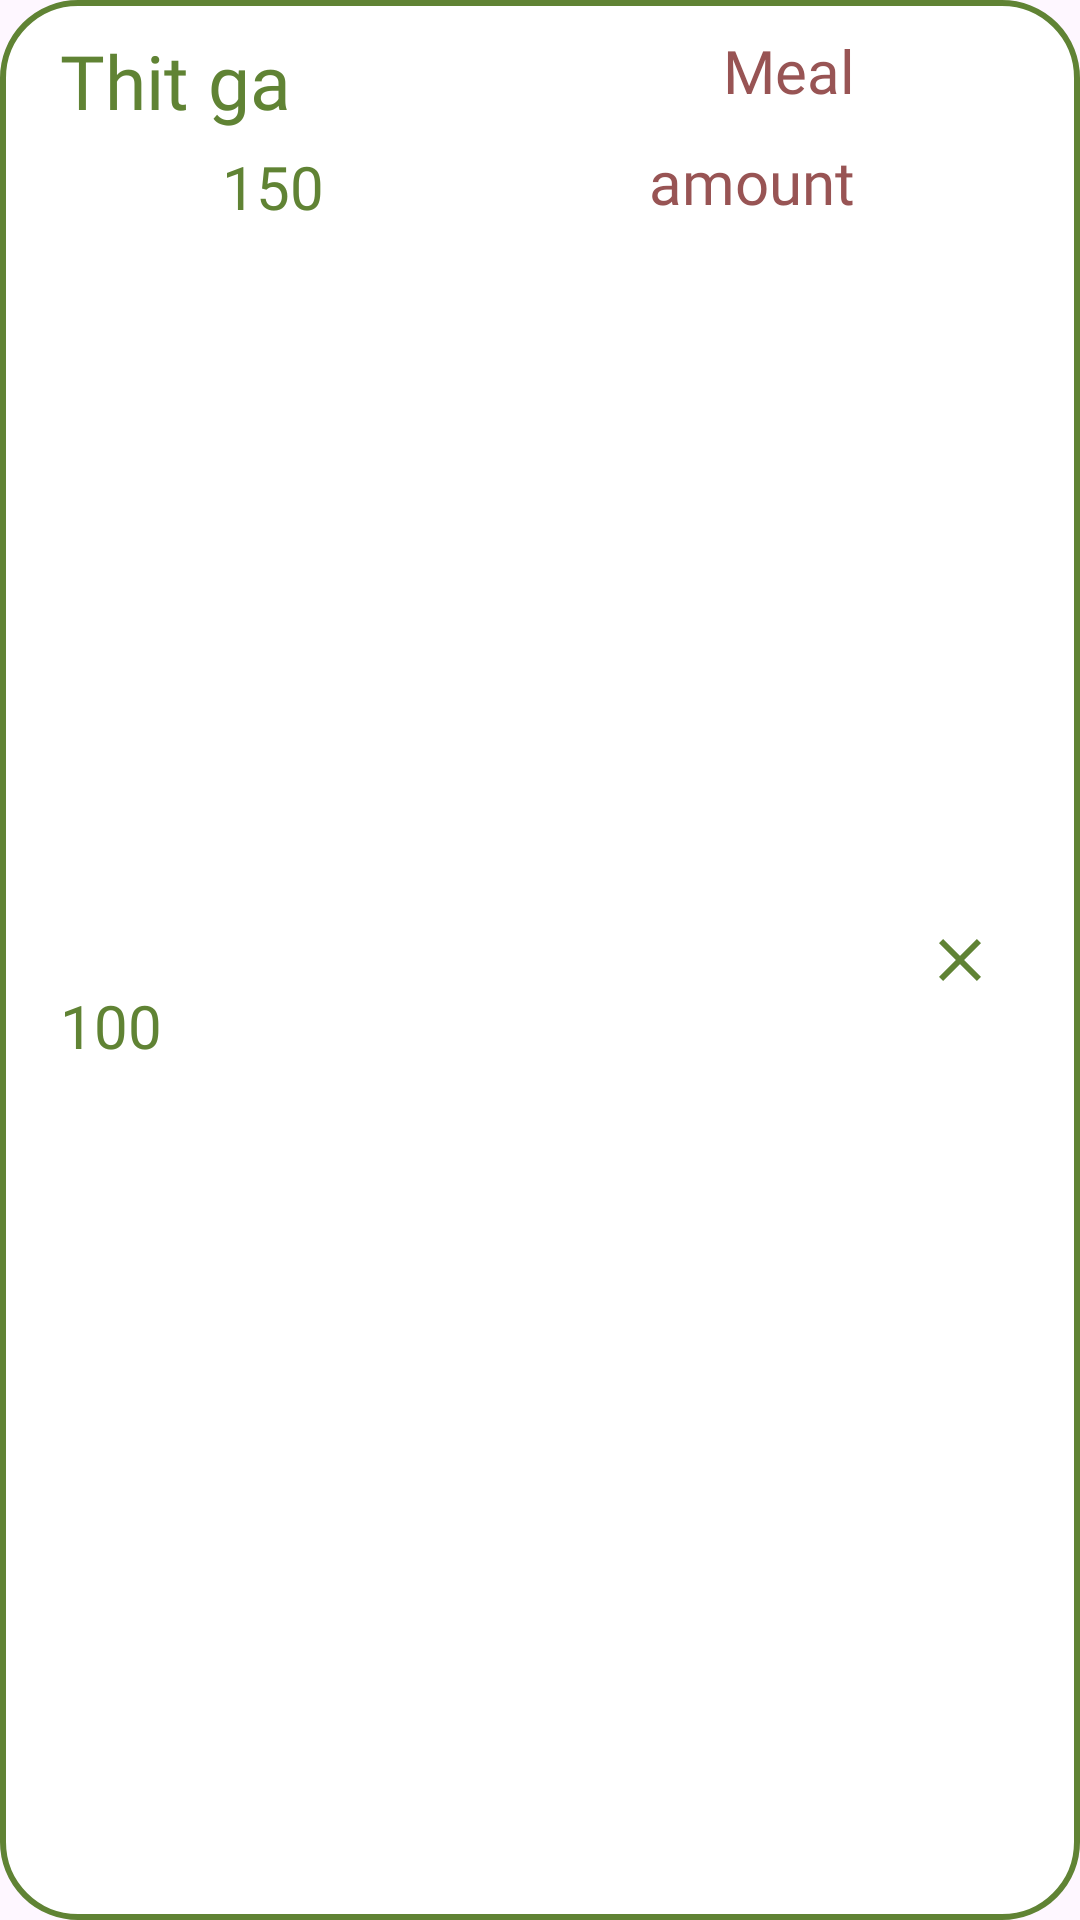

Named icons in this screenshot (1080 × 1920) and their centers, [x,y]:
cancel: [960,960]
